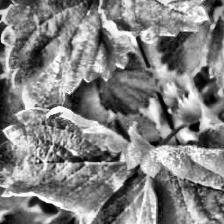Powdery Mildew Leaf: (0, 106, 139, 214), (126, 120, 224, 224), (57, 174, 158, 224)
